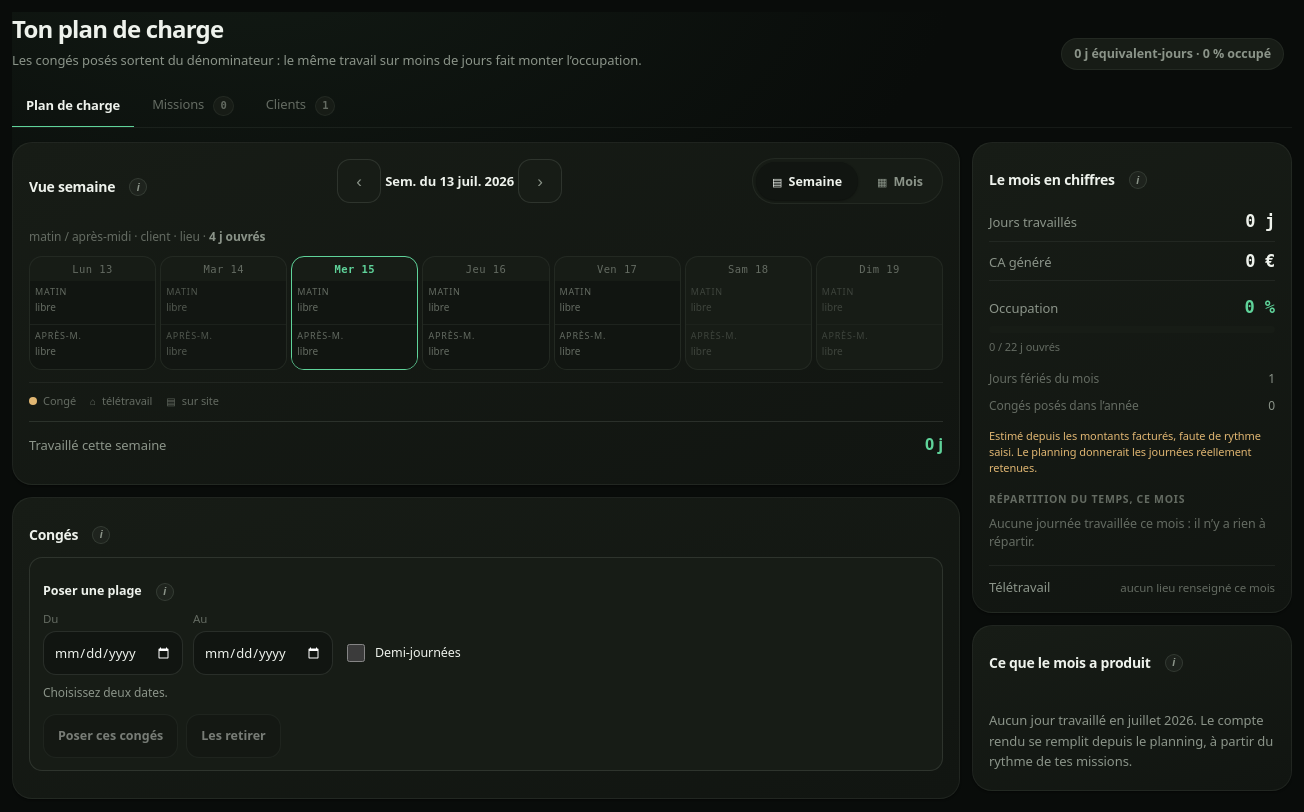
carnet affiché › signale un numéro de TVA manquant sur un client étranger
This screenshot has width=1304, height=812.
Click the tab "Clients 1": [301, 106] box [252,84,350,128]
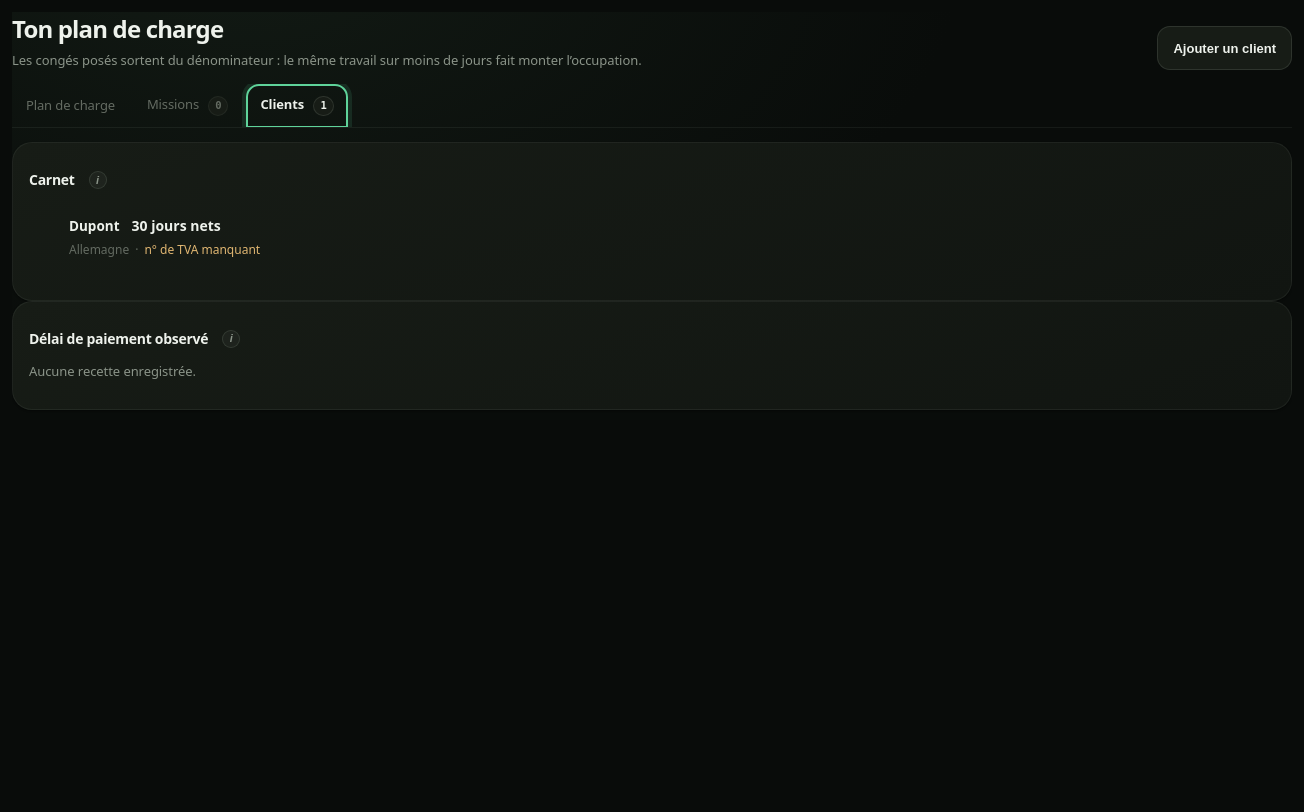
expect the heading "Carnet" is shown: met, box [29,170,75,189]
expect the text "n° de TVA manquant" is shown: met, box [144,241,260,259]
